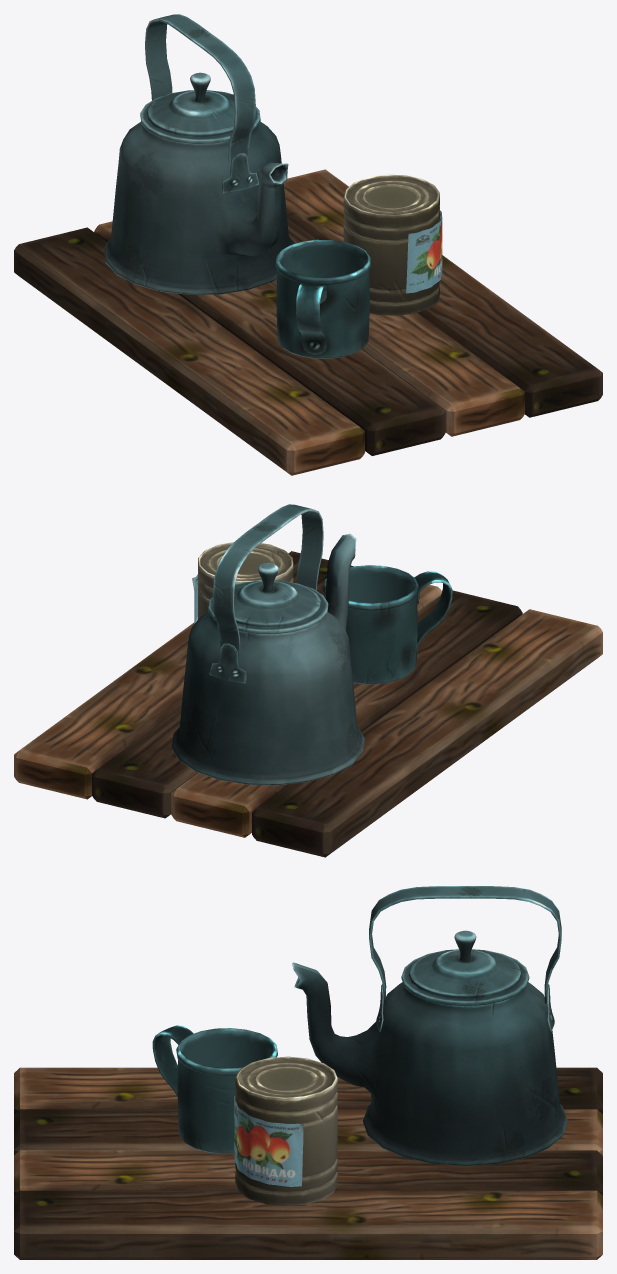
Rendered from tea_time.glb.
3 renders of one model, top to bottom at view 1: azimuth 30°, elevation 25°; view 2: azimuth 150°, elevation 25°; view 3: azimuth 270°, elevation 25°, orthographic. The views are drawn at different scales.
Parts seen in each view (by area): view 1: Object_5, Object_2, Object_6, Object_4, Object_3; view 2: Object_5, Object_2, Object_6, Object_4; view 3: Object_5, Object_2, Object_4, Object_6, Object_3.
Boxes of the visible parts, x1,y1,x2,y2 form: Object_5: (14, 169, 602, 475); Object_2: (104, 14, 294, 294); Object_6: (275, 239, 370, 358); Object_4: (343, 174, 439, 315); Object_3: (406, 210, 442, 293); Object_5: (14, 551, 602, 857); Object_2: (171, 504, 364, 785); Object_6: (322, 565, 452, 684); Object_4: (198, 542, 293, 619); Object_5: (14, 1067, 602, 1259); Object_2: (292, 886, 567, 1166); Object_4: (235, 1056, 337, 1205); Object_6: (152, 1025, 277, 1154); Object_3: (234, 1095, 303, 1186).
Bounding box in the file's own units: 1.41 × 1.1 × 2.15.
5 materials, 5 textured.
